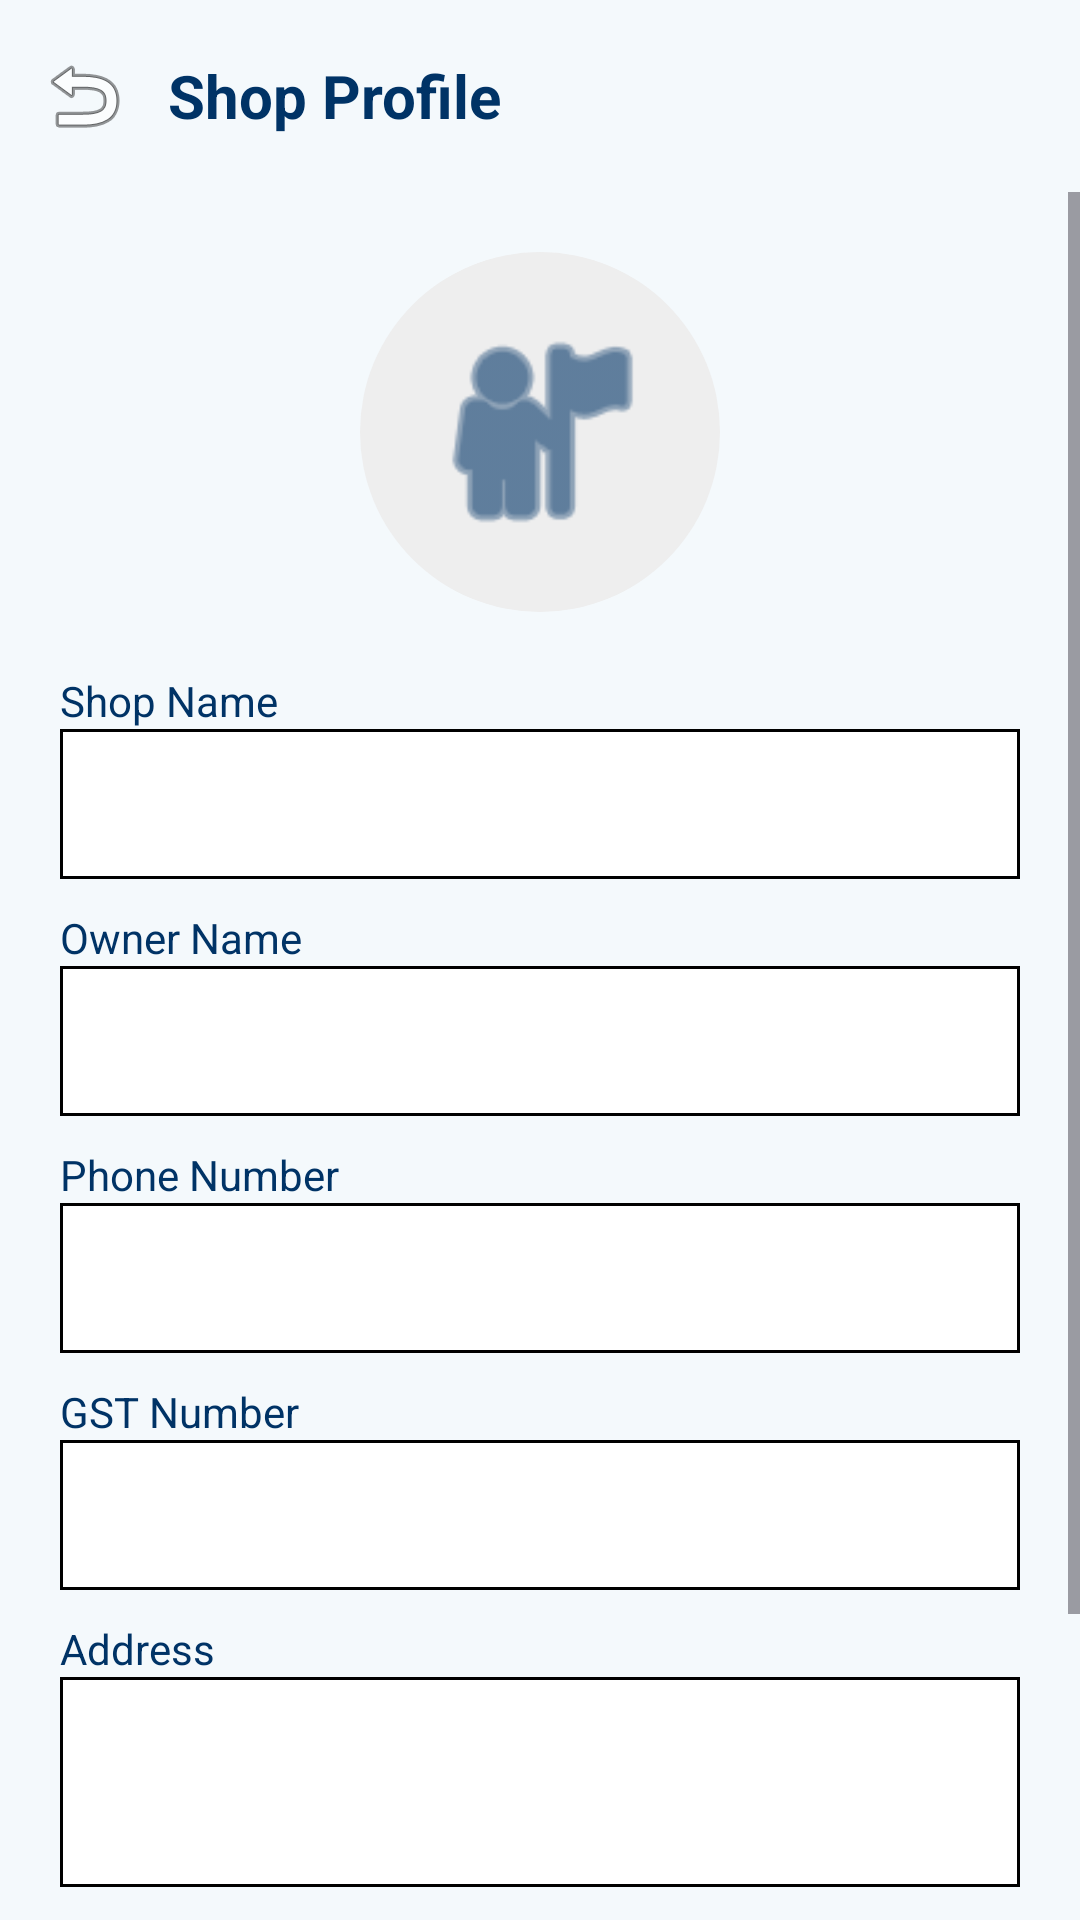

Icons on this 1080*1920 Android screen, each with the point to tap as [x,y]:
myplaces: [542,432]
